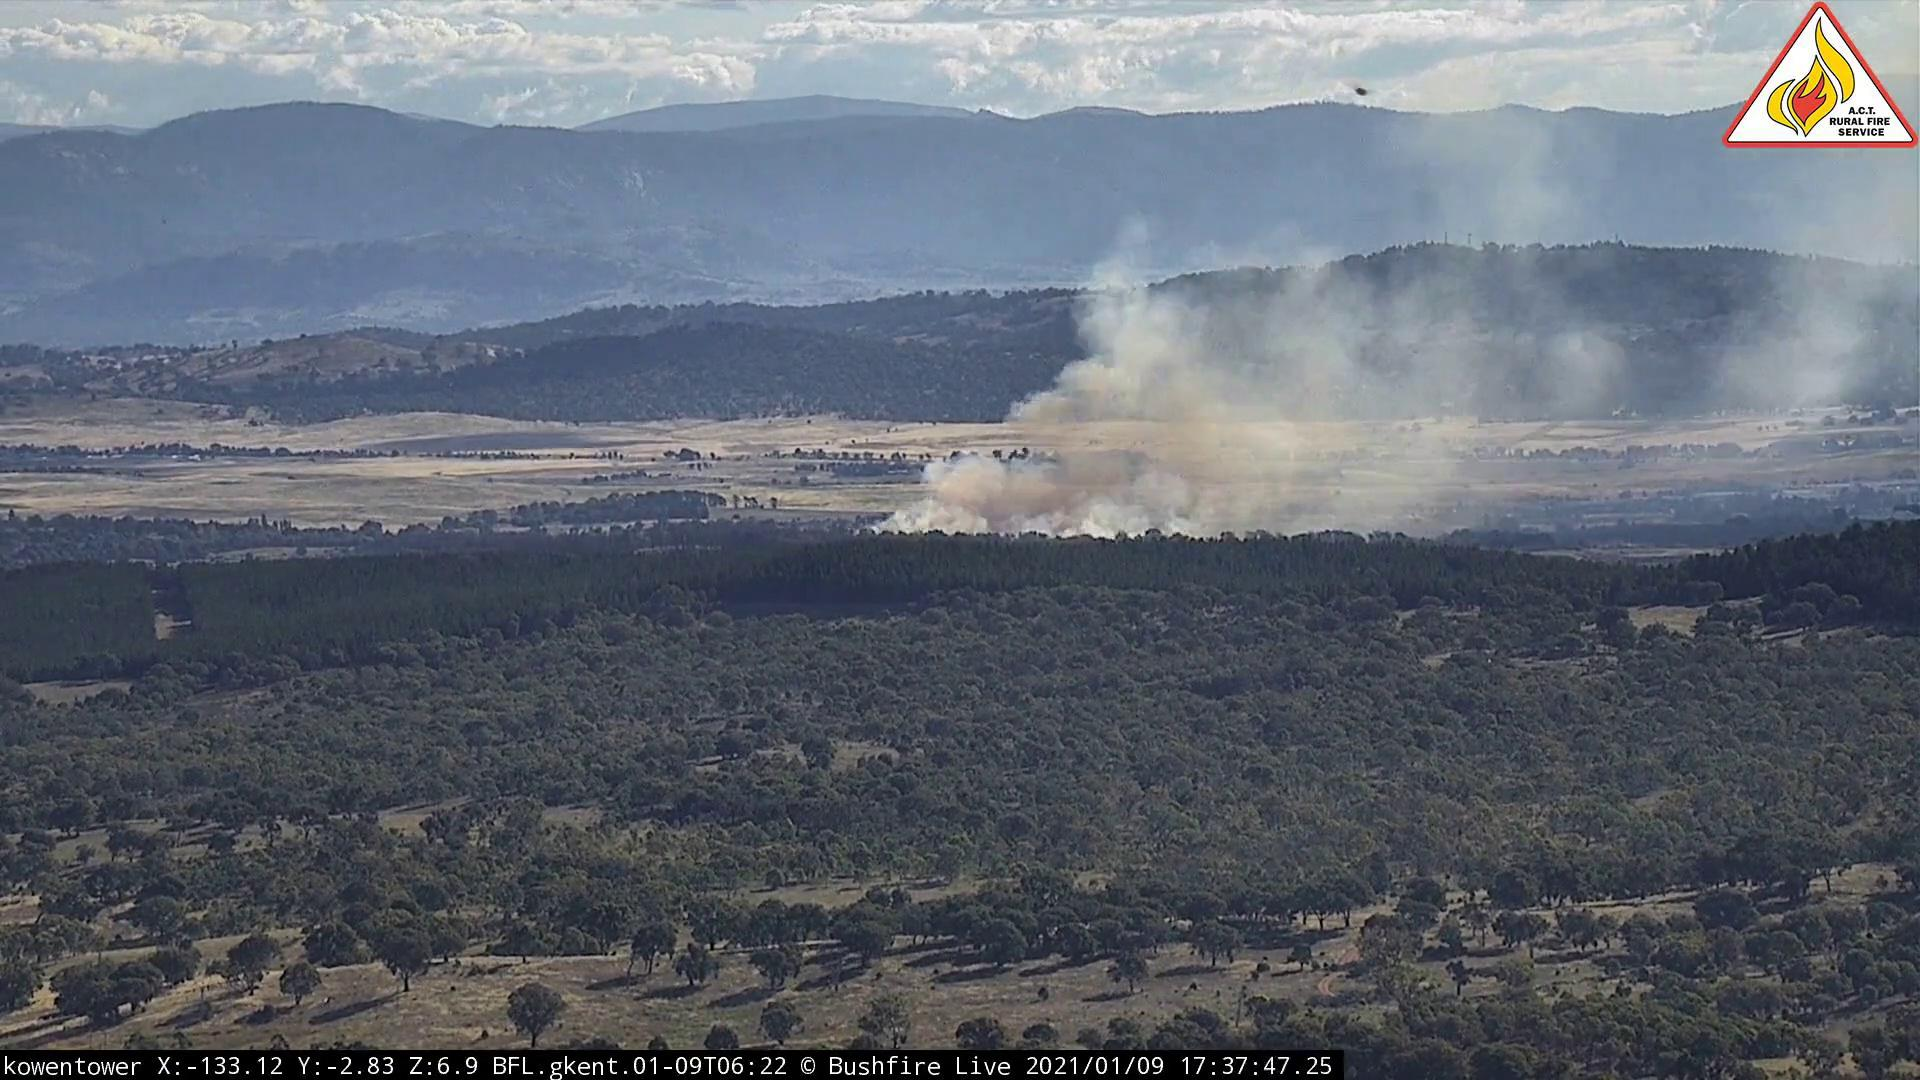Smoke: (864, 116, 1706, 553)
